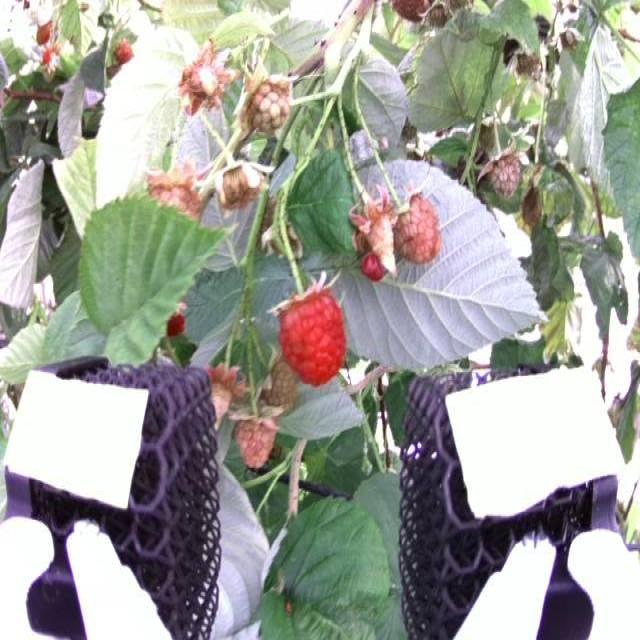Riped berries: (272, 280, 349, 386)
